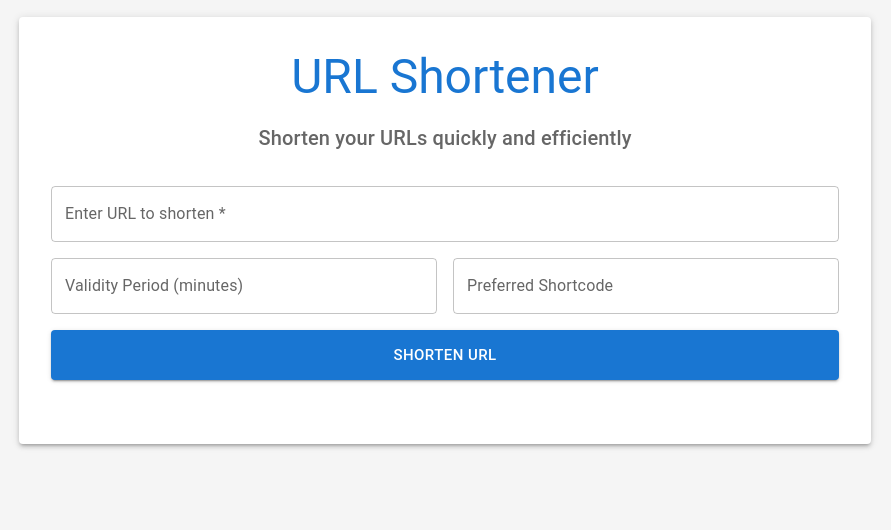
Test: UrlShortener Component › shows validation error for empty URL
Click the button "Shorten URL" at (445, 355), box [51, 330, 839, 380]
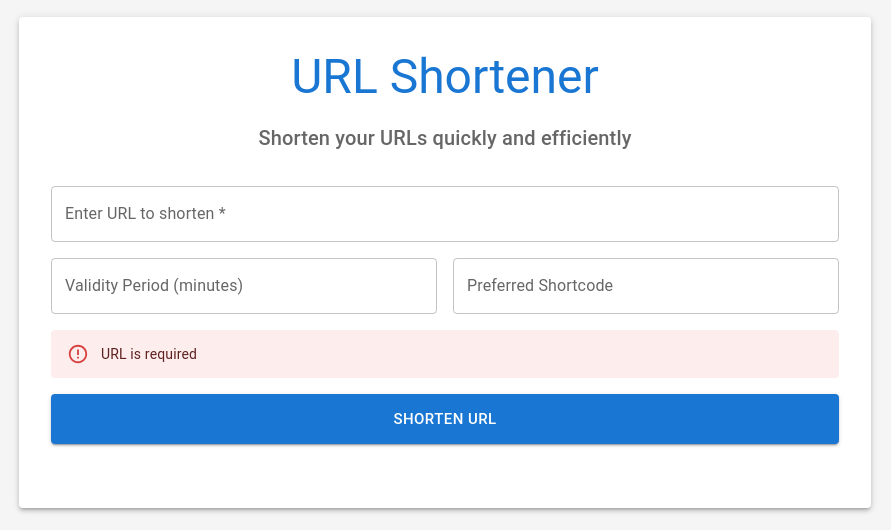
Check: the text "URL is required" is shown, box [101, 346, 197, 362]
